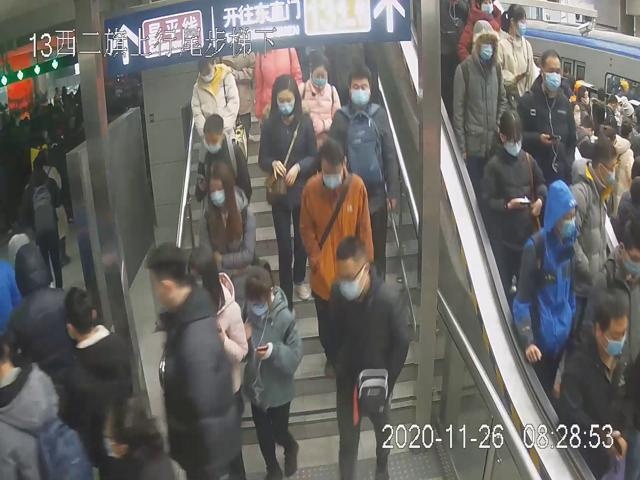person: (319, 232, 409, 480), (301, 135, 374, 385), (327, 65, 402, 288), (237, 256, 305, 480), (259, 68, 319, 319), (511, 175, 579, 378), (477, 100, 546, 297), (511, 44, 582, 190), (199, 158, 258, 325), (450, 15, 506, 185), (193, 112, 255, 224), (185, 47, 241, 154), (291, 48, 346, 137)
